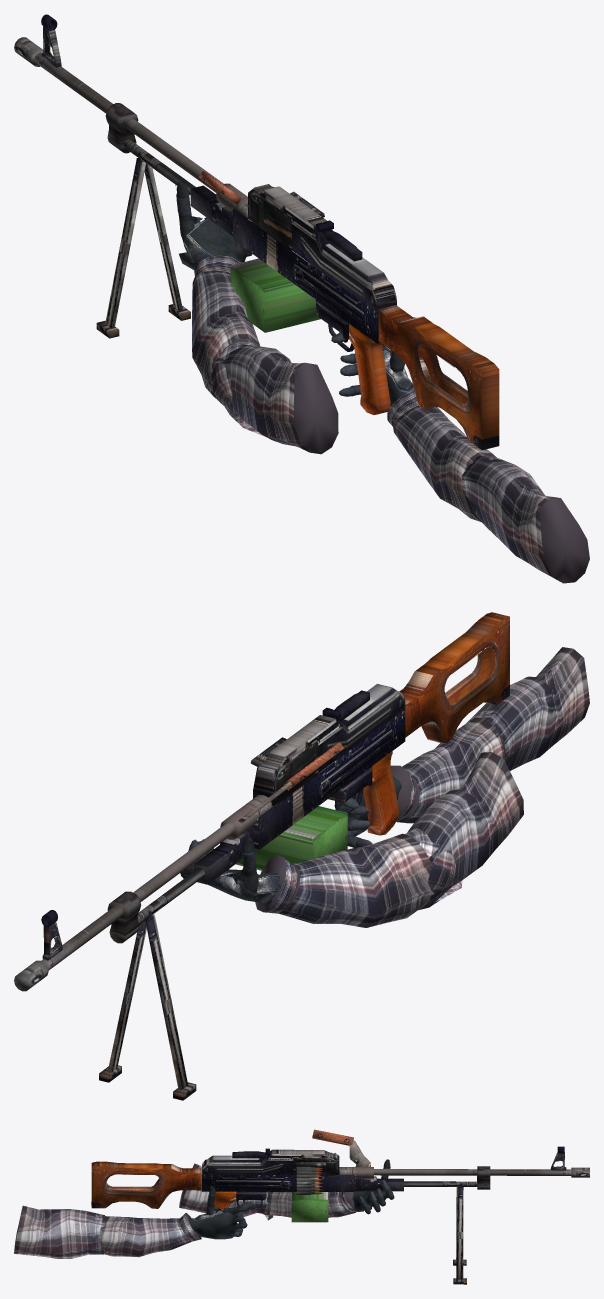
Rendered from pkm_ads.fbx.
The picture shows the model from 3 angles, top to bottom: view 1: azimuth 30°, elevation 25°; view 2: azimuth 150°, elevation 25°; view 3: azimuth 270°, elevation 25°; orthographic projection. The views are drawn at different scales.
Parts seen in each view (by area): view 1: pkm, larm, rupperarm, rforearm, lhand, rhand; view 2: pkm, larm, rupperarm, rforearm, lhand; view 3: pkm, rupperarm, rforearm, larm, rhand, lhand.
Boxes of the visible parts, <box> form: pkm: <box>14,14,499,450</box>; larm: <box>192,255,338,454</box>; rupperarm: <box>461,456,589,583</box>; rforearm: <box>387,389,496,522</box>; lhand: <box>175,181,252,269</box>; rhand: <box>383,350,414,406</box>; pkm: <box>14,612,509,1100</box>; larm: <box>255,752,523,927</box>; rupperarm: <box>467,647,589,770</box>; rforearm: <box>391,717,508,823</box>; lhand: <box>180,837,281,903</box>; pkm: <box>91,1129,589,1284</box>; rupperarm: <box>14,1205,105,1258</box>; rforearm: <box>97,1213,201,1257</box>; larm: <box>179,1163,364,1220</box>; rhand: <box>188,1208,237,1239</box>; lhand: <box>348,1159,394,1214</box>.
Bounding box in the file's own units: 10.2 × 15.48 × 61.48.
